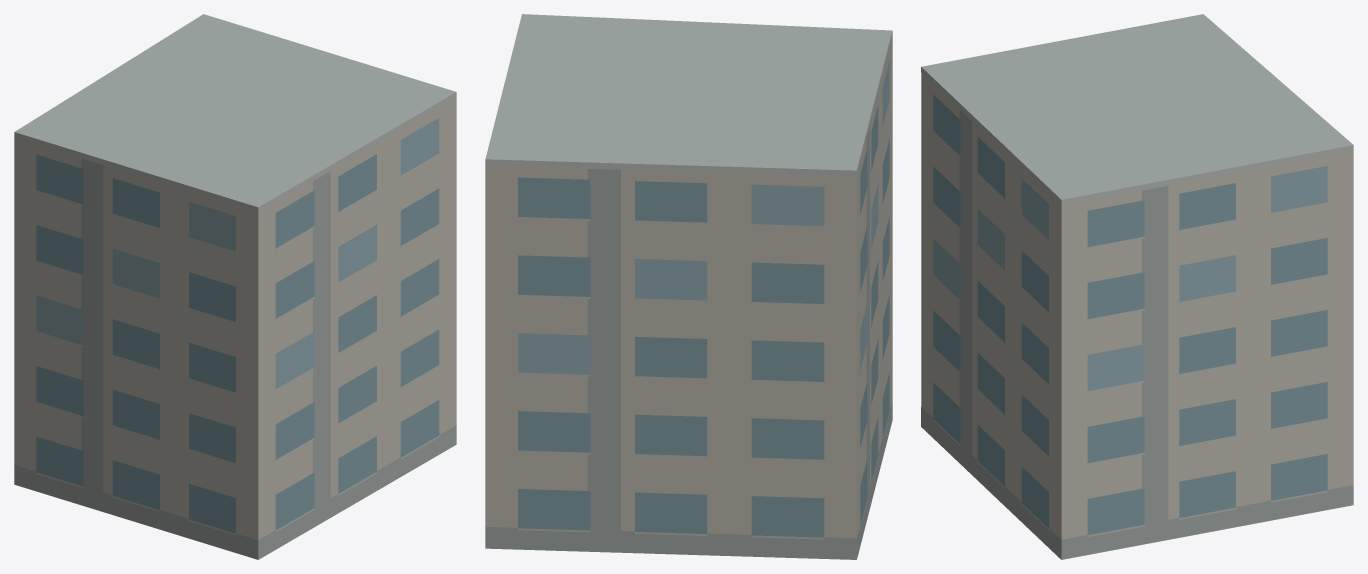
File: survey-upis-33038438.glb
The picture shows the model from 3 angles, left to right: view 1: azimuth 30°, elevation 25°; view 2: azimuth 150°, elevation 25°; view 3: azimuth 270°, elevation 25°; orthographic projection. The views are drawn at different scales.
Parts seen in each view (by area): view 1: survey-upis-33038438.tmp; view 2: survey-upis-33038438.tmp; view 3: survey-upis-33038438.tmp.
Part boxes in pixels (bbox=[...]): survey-upis-33038438.tmp: bbox=[14, 14, 456, 559]; survey-upis-33038438.tmp: bbox=[485, 14, 892, 559]; survey-upis-33038438.tmp: bbox=[921, 14, 1353, 559].
Bounding box in the file's own units: 16.16 × 14.6 × 15.9.
